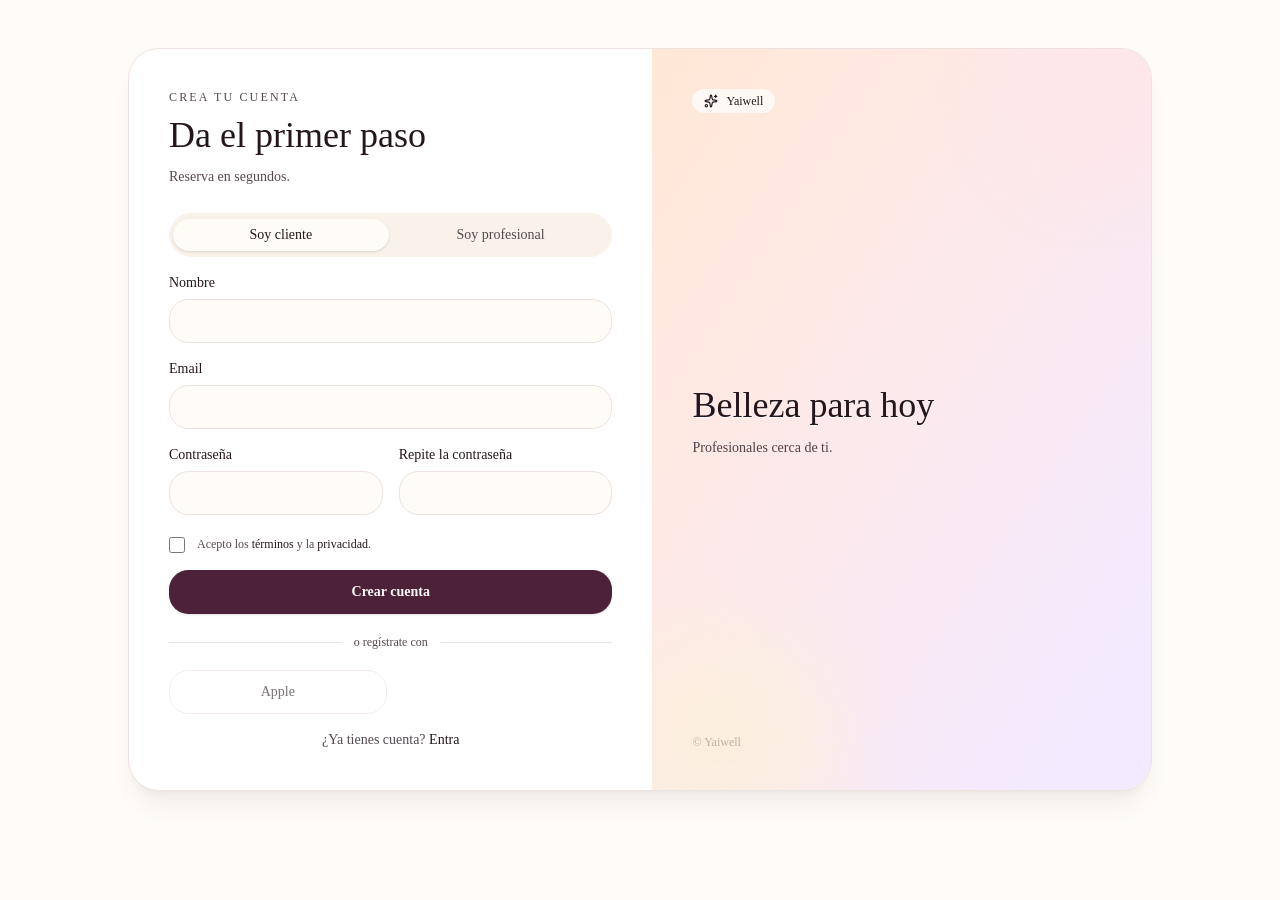
Scenario: SignUpForm › muestra error local de contraseña corta sin pegar a Clerk
The width and height of the screenshot is (1280, 900).
Type "Jorge" into the field labelled "Nombre" at (391, 321), box [169, 299, 612, 343]
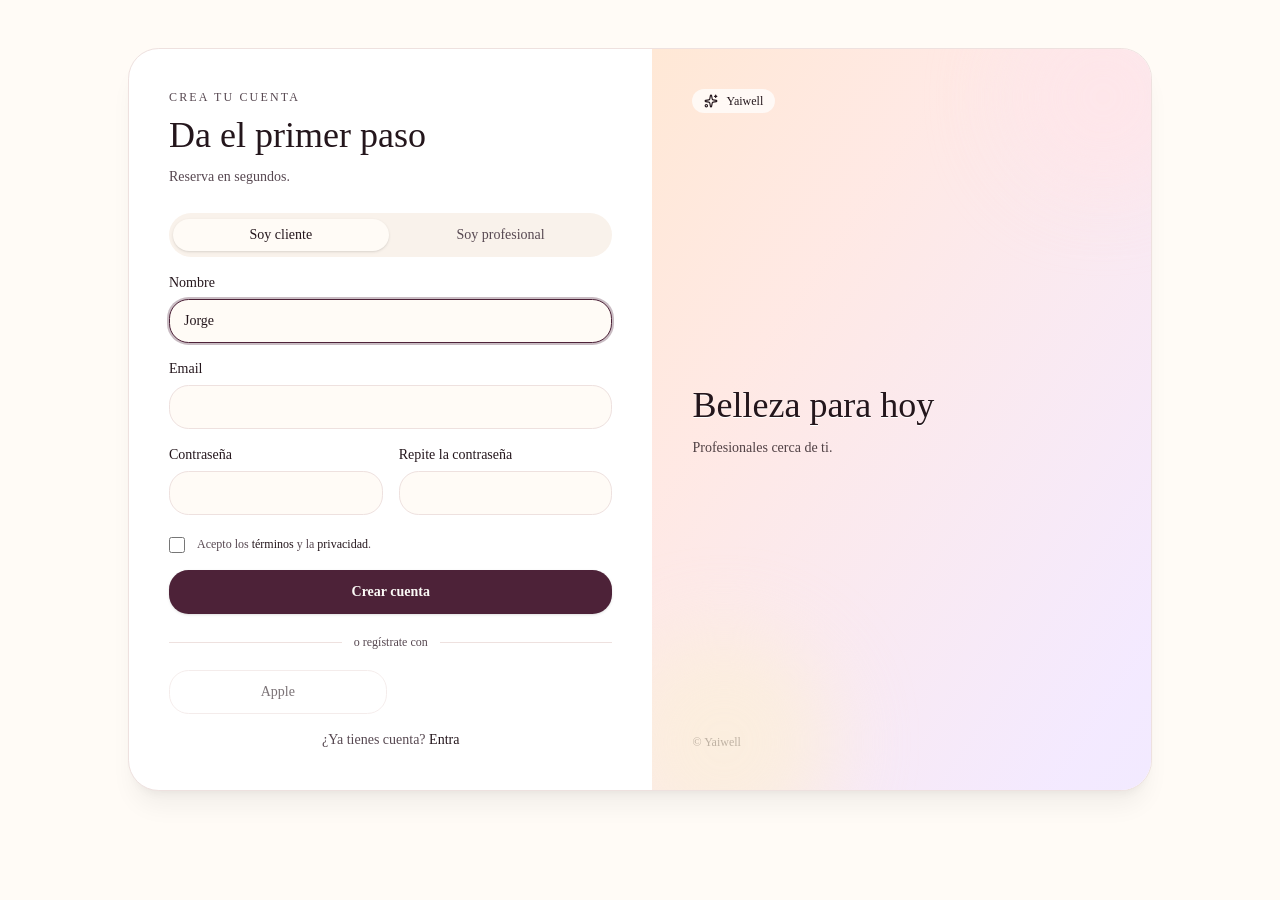
Type "jorge@yaiwell.com" into the field labelled "Email" at (391, 407), box [169, 385, 612, 429]
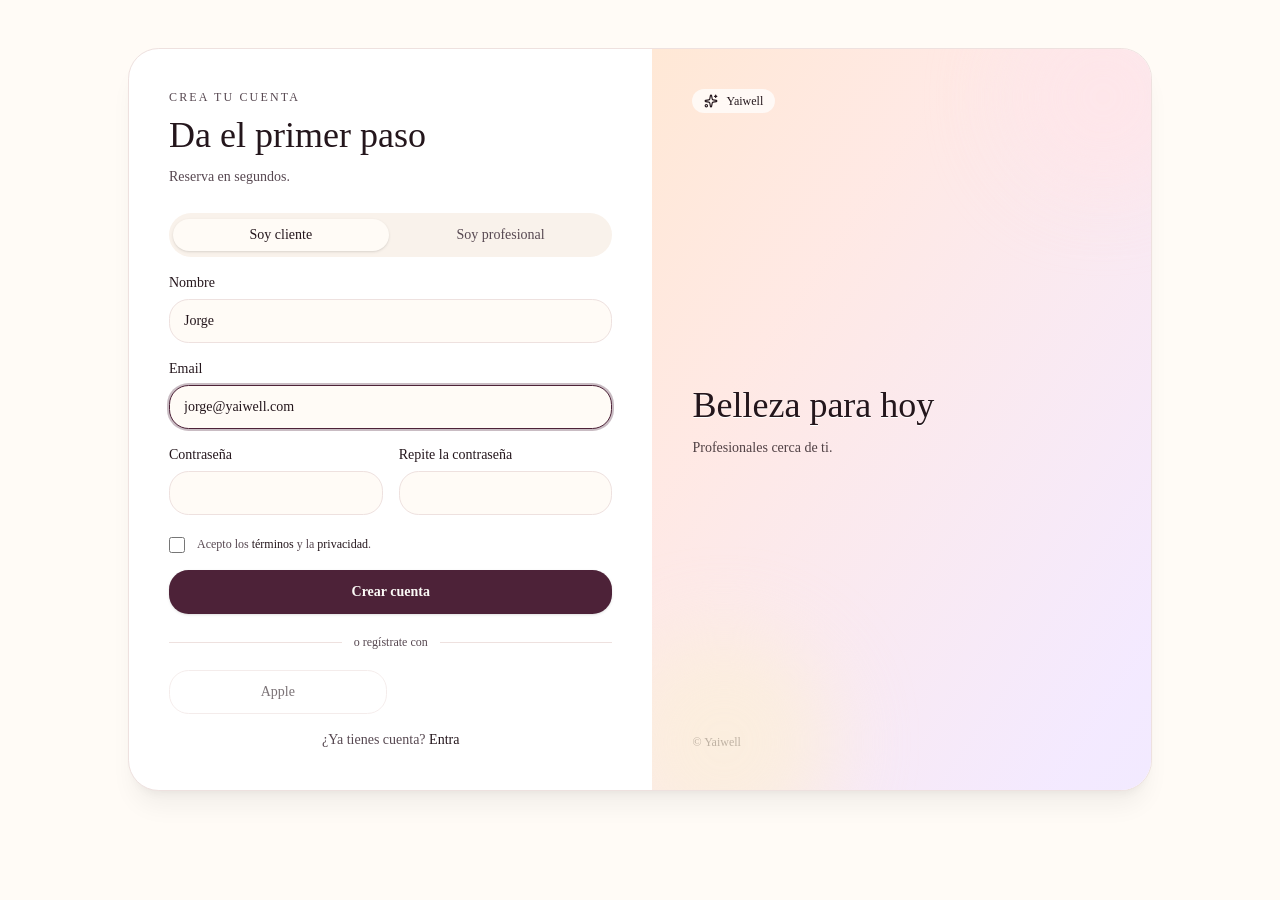
Type "abc" into the password field labelled "Contraseña" at (276, 493), box [169, 471, 383, 515]
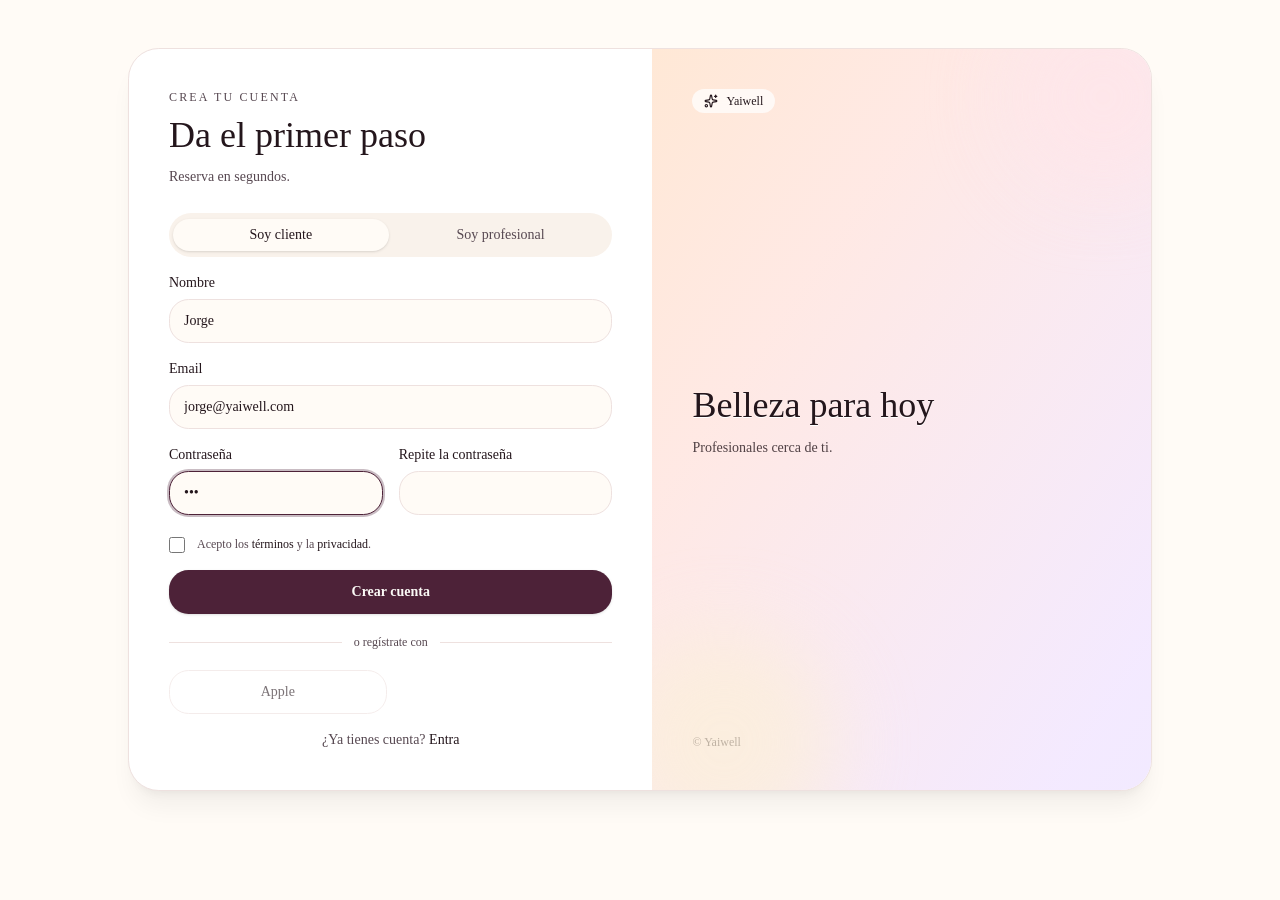
Type "abc" into the password field labelled "Repite la contraseña" at (506, 493), box [399, 471, 612, 515]
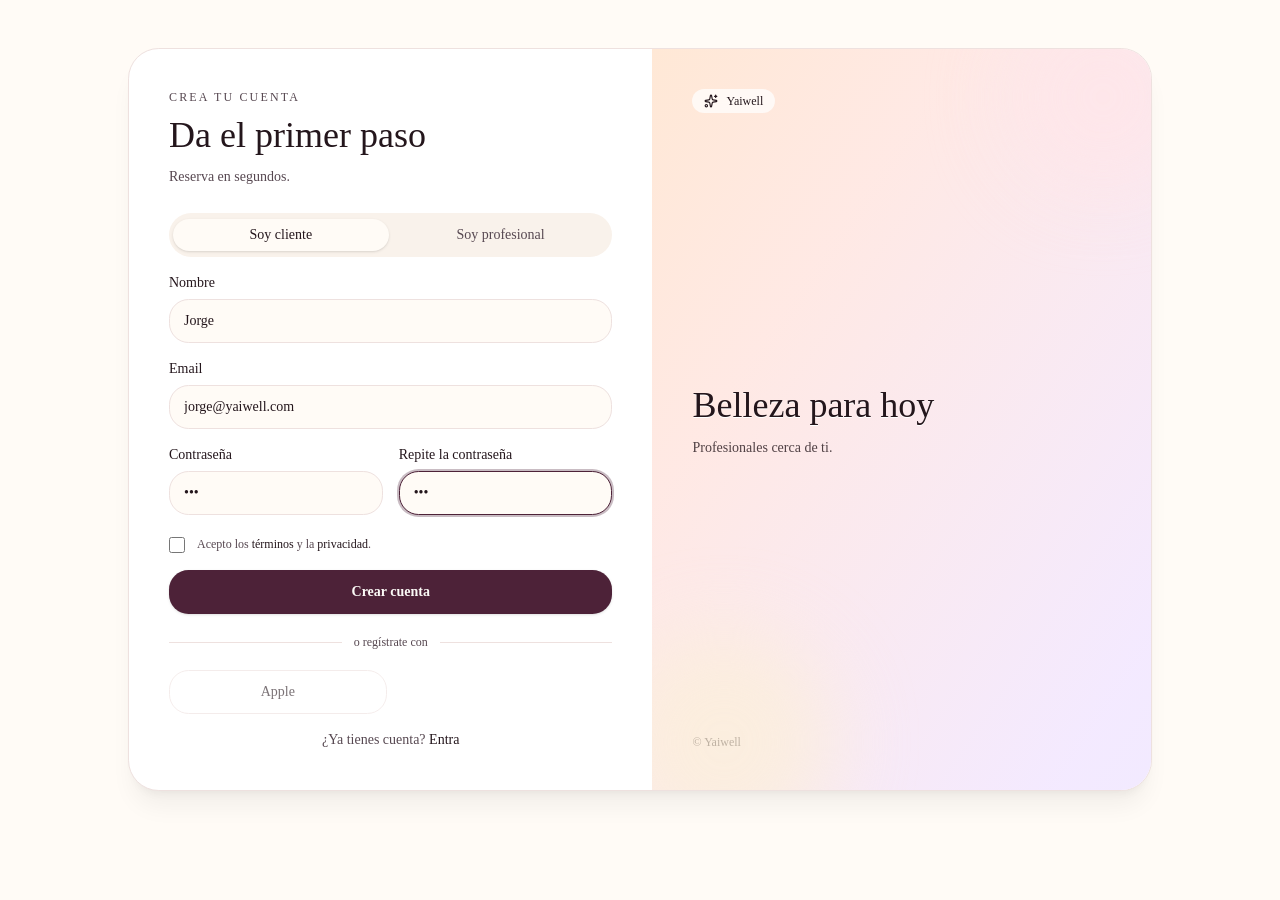
Click the checkbox at (177, 545), box [169, 537, 185, 553]
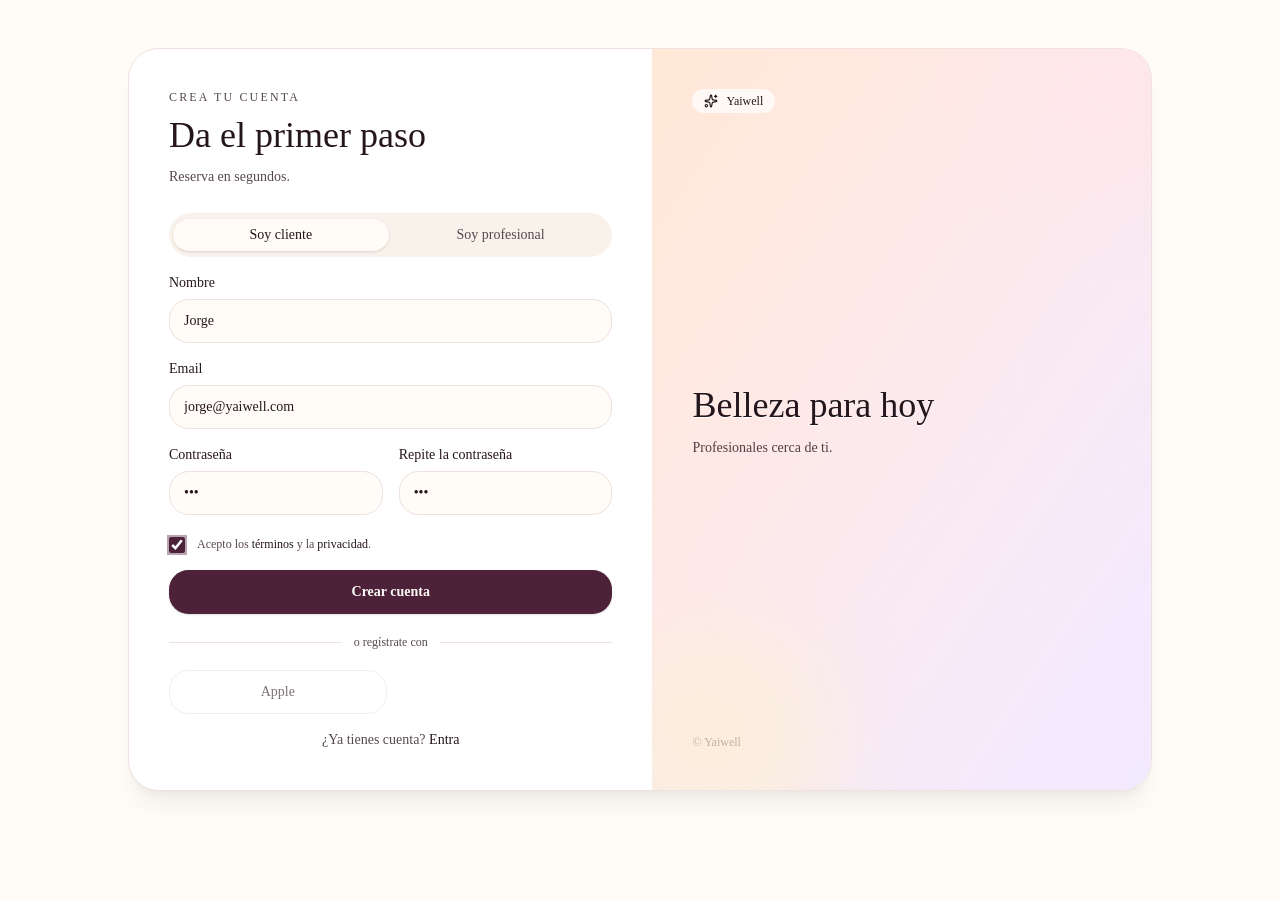
Click the button "Crear cuenta" at (391, 592), box [169, 570, 612, 614]
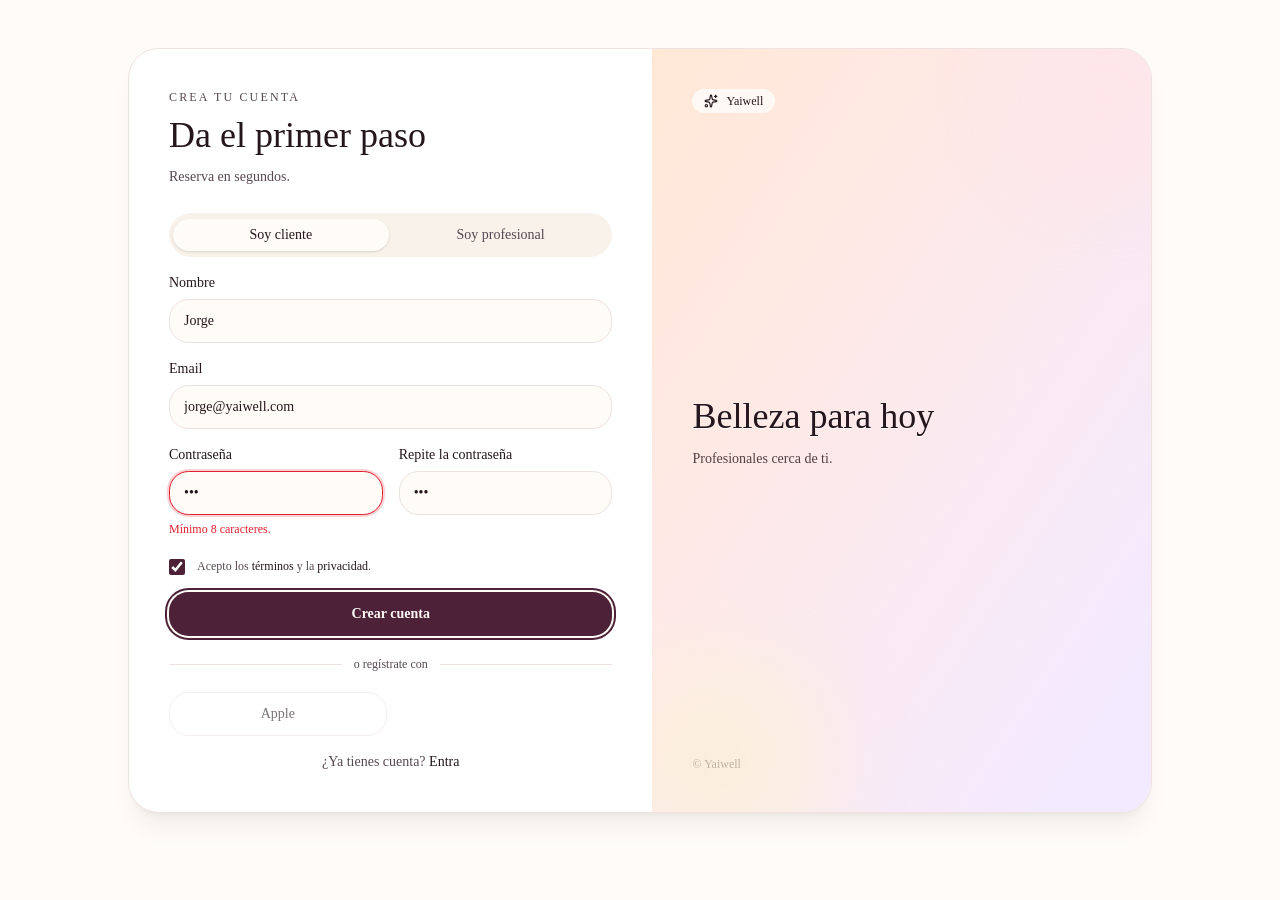
Check: the text "Mínimo 8 caracteres." is shown, box [169, 522, 271, 536]
